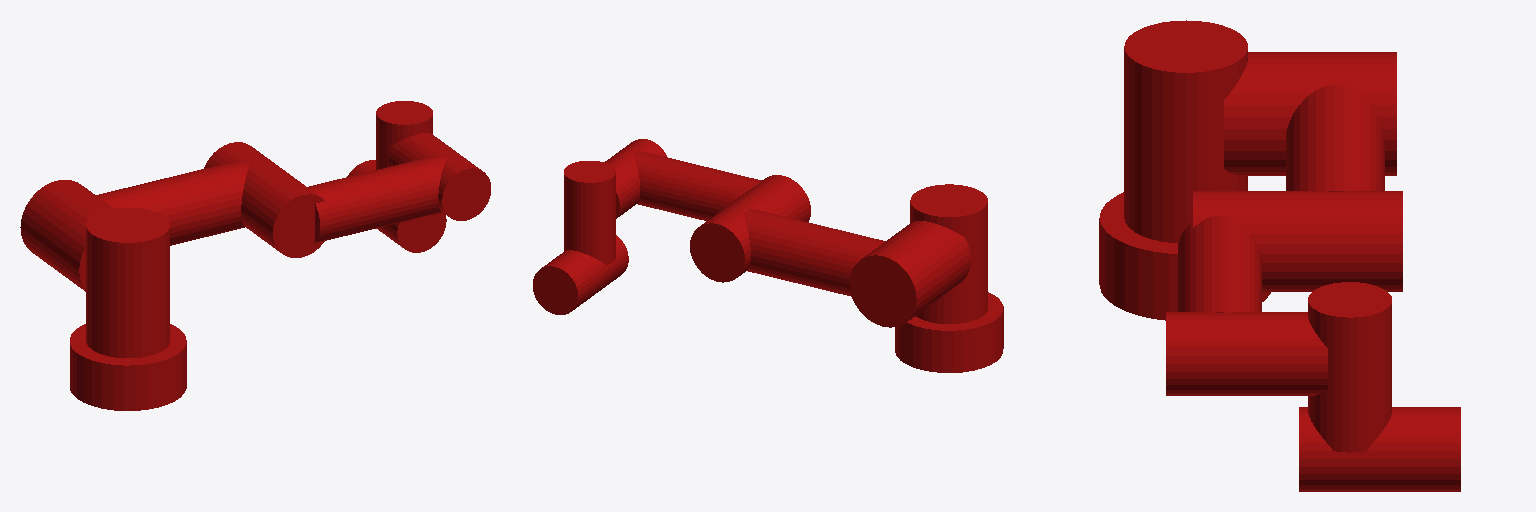
robot.urdf — ur3e:
<?xml version="1.0" ?>
<!-- =================================================================================== -->
<!-- |    This document was autogenerated by xacro from manipulation/models/ur3e/ur3e_cylinder_revolute_wrist_collision_visual.urdf.xacro | -->
<!-- |    EDITING THIS FILE BY HAND IS NOT RECOMMENDED                                 | -->
<!-- =================================================================================== -->
<robot name="ur3e" xmlns:drake="https://drake.mit.edu">
  <!--
  Per https://github.com/ros-industrial/universal_robot/blob/melodic-devel/ur_description/package.xml
  the ur_description package from which these files are derived is BSD licensed.
-->
  <!--
  Author: [author]

  Per https://github.com/ros-industrial/universal_robot/blob/melodic-devel/ur_description/package.xml
  the ur_description package from which these files are derived is BSD licensed.
-->
  <!--
  TODO([author], [author], [author]) The acceleration limits in this
  file are wrong. Try to find the right value.
-->
  <!-- measured from model -->
  <link name="ur_base_link">
    <visual name="base_cylinder">
      <origin rpy="0 0 0" xyz="0 0 0.03"/>
      <geometry>
        <cylinder length="0.06" radius="0.07"/>
      </geometry>
      <material name="LightRed">
        <color rgba="0.7 0.1 0.1 1.0"/>
      </material>
    </visual>
    <collision name="base_cylinder">
      <origin rpy="0 0 0" xyz="0 0 0.03"/>
      <geometry>
        <cylinder length="0.06" radius="0.07"/>
      </geometry>
    </collision>
    <inertial>
      <mass value="2.0"/>
      <origin rpy="0 0 0" xyz="0.0 0.0 0.0"/>
      <inertia ixx="0.0030531654454" ixy="0.0" ixz="0.0" iyy="0.0030531654454" iyz="0.0" izz="0.005625"/>
    </inertial>
  </link>
  <joint name="ur_shoulder_pan_joint" type="revolute">
    <parent link="ur_base_link"/>
    <child link="ur_shoulder_link"/>
    <origin rpy="0.0 0.0 0.0" xyz="0.0 0.0 0.152"/>
    <axis xyz="0 0 1"/>
    <limit drake:acceleration="2.5" effort="330.0" lower="-2.827433388230814" upper="2.827433388230814" velocity="3.14"/>
    <dynamics damping="0.0" friction="0.0"/>
  </joint>
  <link name="ur_shoulder_link">
    <visual name="shoulder_cylinder">
      <origin rpy="0 0 0" xyz="0.0 0.0 -0.02"/>
      <geometry>
        <cylinder length="0.16" radius="0.05"/>
      </geometry>
      <material name="LightRed">
        <color rgba="0.7 0.1 0.1 1.0"/>
      </material>
    </visual>
    <collision name="shoulder_cylinder">
      <origin rpy="0 0 0" xyz="0.0 0.0 -0.02"/>
      <geometry>
        <cylinder length="0.16" radius="0.05"/>
      </geometry>
    </collision>
    <inertial>
      <mass value="2.0"/>
      <origin rpy="0 0 0" xyz="0.0 0.0 0.0"/>
      <inertia ixx="0.008093163429399999" ixy="0.0" ixz="0.0" iyy="0.008093163429399999" iyz="0.0" izz="0.005625"/>
    </inertial>
  </link>
  <joint name="ur_shoulder_lift_joint" type="revolute">
    <parent link="ur_shoulder_link"/>
    <child link="ur_upper_arm_link"/>
    <origin rpy="0.0 1.5707963267948966 0.0" xyz="0.0 0.12 0.0"/>
    <axis xyz="0 1 0"/>
    <limit drake:acceleration="2.5" effort="330.0" lower="-2.827433388230814" upper="2.827433388230814" velocity="3.14"/>
    <dynamics damping="0.0" friction="0.0"/>
  </joint>
  <link name="ur_upper_arm_link">
    <visual name="upper_arm_cylinder1">
      <origin rpy="1.5707963267948966 0 0" xyz="0.0 -0.02 0.0"/>
      <geometry>
        <cylinder length="0.14" radius="0.05"/>
      </geometry>
      <material name="LightRed">
        <color rgba="0.7 0.1 0.1 1.0"/>
      </material>
    </visual>
    <collision name="upper_arm_cylinder1">
      <origin rpy="1.5707963267948966 0 0" xyz="0.0 -0.02 0.0"/>
      <geometry>
        <cylinder length="0.14" radius="0.05"/>
      </geometry>
    </collision>
    <visual name="upper_arm_cylinder2">
      <origin rpy="0 0 0" xyz="0.0 0.0 0.127"/>
      <geometry>
        <cylinder length="0.21" radius="0.04"/>
      </geometry>
      <material name="LightRed">
        <color rgba="0.7 0.1 0.1 1.0"/>
      </material>
    </visual>
    <collision name="upper_arm_cylinder2">
      <origin rpy="0 0 0" xyz="0.0 0.0 0.127"/>
      <geometry>
        <cylinder length="0.21" radius="0.04"/>
      </geometry>
    </collision>
    <visual name="upper_arm_cylinder3">
      <origin rpy="1.5707963267948966 0 0" xyz="0.0 -0.03 0.243"/>
      <geometry>
        <cylinder length="0.17" radius="0.041"/>
      </geometry>
      <material name="LightRed">
        <color rgba="0.7 0.1 0.1 1.0"/>
      </material>
    </visual>
    <collision name="upper_arm_cylinder3">
      <origin rpy="1.5707963267948966 0 0" xyz="0.0 -0.03 0.243"/>
      <geometry>
        <cylinder length="0.17" radius="0.041"/>
      </geometry>
    </collision>
    <inertial>
      <mass value="3.42"/>
      <origin rpy="0 0 0" xyz="0.0 0.0 0.122"/>
      <inertia ixx="0.021777126289145996" ixy="0.0" ixz="0.0" iyy="0.021777126289145996" iyz="0.0" izz="0.00961875"/>
    </inertial>
  </link>
  <joint name="ur_elbow_joint" type="revolute">
    <parent link="ur_upper_arm_link"/>
    <child link="ur_forearm_link"/>
    <origin rpy="0.0 0.0 0.0" xyz="0.0 -0.093 0.244"/>
    <axis xyz="0 1 0"/>
    <limit drake:acceleration="2.5" effort="150.0" lower="-2.827433388230814" upper="2.827433388230814" velocity="3.14"/>
    <dynamics damping="0.0" friction="0.0"/>
  </joint>
  <link name="ur_forearm_link">
    <visual name="forearm_cylinder1">
      <origin rpy="0 0 0" xyz="0.0 0.0 0.1115"/>
      <geometry>
        <cylinder length="0.19" radius="0.034"/>
      </geometry>
      <material name="LightRed">
        <color rgba="0.7 0.1 0.1 1.0"/>
      </material>
    </visual>
    <visual name="forearm_cylinder2">
      <origin rpy="1.5707963267948966 0 0" xyz="0.0 0.022 0.213"/>
      <geometry>
        <cylinder length="0.13" radius="0.034"/>
      </geometry>
      <material name="LightRed">
        <color rgba="0.7 0.1 0.1 1.0"/>
      </material>
    </visual>
    <collision name="forearm_cylinder1">
      <origin rpy="0 0 0" xyz="0.0 0.0 0.1115"/>
      <geometry>
        <cylinder length="0.19" radius="0.034"/>
      </geometry>
    </collision>
    <collision name="forearm_cylinder2">
      <origin rpy="1.5707963267948966 0 0" xyz="0.0 0.022 0.213"/>
      <geometry>
        <cylinder length="0.13" radius="0.034"/>
      </geometry>
    </collision>
    <inertial>
      <mass value="1.26"/>
      <origin rpy="0 0 0" xyz="0.0 0.0 0.1065"/>
      <inertia ixx="0.006535617385751999" ixy="0.0" ixz="0.0" iyy="0.006535617385751999" iyz="0.0" izz="0.00354375"/>
    </inertial>
  </link>
  <joint name="ur_wrist_1_joint" type="revolute">
    <parent link="ur_forearm_link"/>
    <child link="ur_wrist_1_link"/>
    <origin rpy="0.0 1.5707963267948966 0.0" xyz="0.0 0.0 0.213"/>
    <axis xyz="0 1 0"/>
    <limit drake:acceleration="2.5" effort="54.0" lower="-2.827433388230814" upper="2.827433388230814" velocity="6.28"/>
    <dynamics damping="0.0" friction="0.0"/>
  </joint>
  <link name="ur_wrist_1_link">
    <visual name="wrist_1_cylinder">
      <origin rpy="0 0 0" xyz="0.0 0.105 0.012"/>
      <geometry>
        <cylinder length="0.12" radius="0.034"/>
      </geometry>
      <material name="LightRed">
        <color rgba="0.7 0.1 0.1 1.0"/>
      </material>
    </visual>
    <collision name="wrist_1_cylinder">
      <origin rpy="0 0 0" xyz="0.0 0.105 0.012"/>
      <geometry>
        <cylinder length="0.12" radius="0.034"/>
      </geometry>
    </collision>
    <inertial>
      <mass value="0.8"/>
      <origin rpy="0 0 0" xyz="0.0 0.104 0.0"/>
      <inertia ixx="0.002084999166" ixy="0.0" ixz="0.0" iyy="0.002084999166" iyz="0.0" izz="0.00225"/>
    </inertial>
  </link>
  <joint name="ur_wrist_2_joint" type="revolute">
    <parent link="ur_wrist_1_link"/>
    <child link="ur_wrist_2_link"/>
    <origin rpy="0.0 0.0 0.0" xyz="0.0 0.104 0.0"/>
    <axis xyz="0 0 1"/>
    <limit drake:acceleration="2.5" effort="54.0" lower="-2.827433388230814" upper="2.827433388230814" velocity="6.28"/>
    <dynamics damping="0.0" friction="0.0"/>
  </joint>
  <link name="ur_wrist_2_link">
    <origin rpy="1.5707963267948966 0 0" xyz="0.0 0.0 0.0"/>
    <visual name="wrist_2_cylinder">
      <origin rpy="1.5707963267948966 0 0" xyz="0.0 0.025 0.085"/>
      <geometry>
        <cylinder length="0.13" radius="0.034"/>
      </geometry>
      <material name="LightRed">
        <color rgba="0.7 0.1 0.1 1.0"/>
      </material>
    </visual>
    <collision name="wrist_2_cylinder">
      <origin rpy="1.5707963267948966 0 0" xyz="0.0 0.025 0.085"/>
      <geometry>
        <cylinder length="0.13" radius="0.034"/>
      </geometry>
    </collision>
    <inertial>
      <mass value="0.8"/>
      <origin rpy="0 0 0" xyz="0.0 0.0 0.085"/>
      <inertia ixx="0.002084999166" ixy="0.0" ixz="0.0" iyy="0.002084999166" iyz="0.0" izz="0.00225"/>
    </inertial>
  </link>
  <joint name="ur_wrist_3_joint" type="revolute">
    <parent link="ur_wrist_2_link"/>
    <child link="ur_wrist_3_link"/>
    <origin rpy="0.0 0.0 0.0" xyz="0.0 0.0 0.085"/>
    <axis xyz="0 1 0"/>
    <limit drake:acceleration="2.5" effort="54.0" lower="-2.827433388230814" upper="2.827433388230814" velocity="6.28"/>
    <dynamics damping="0.0" friction="0.0"/>
  </joint>
  <link name="ur_wrist_3_link">
    <inertial>
      <mass value="0.35"/>
      <origin rpy="1.5707963267948966 0 0" xyz="0.0 0.071 0.0"/>
      <inertia ixx="0.00014104994358" ixy="0.0" ixz="0.0" iyy="0.00014104994358" iyz="0.0" izz="0.0001792"/>
    </inertial>
  </link>
  <joint name="ur_ee_fixed_joint" type="fixed">
    <parent link="ur_wrist_3_link"/>
    <child link="ur_ee_link"/>
    <origin rpy="0.0 0.0 1.5707963267948966" xyz="0.0 0.092 0.0"/>
  </joint>
  <link name="ur_ee_link"/>
  <transmission name="ur_shoulder_pan_trans">
    <type>transmission_interface/SimpleTransmission</type>
    <joint name="ur_shoulder_pan_joint">
      <hardwareInterface>hardware_interface/PositionJointInterface</hardwareInterface>
    </joint>
    <actuator name="ur_shoulder_pan_motor">
      <mechanicalReduction>1</mechanicalReduction>
    </actuator>
  </transmission>
  <transmission name="ur_shoulder_lift_trans">
    <type>transmission_interface/SimpleTransmission</type>
    <joint name="ur_shoulder_lift_joint">
      <hardwareInterface>hardware_interface/PositionJointInterface</hardwareInterface>
    </joint>
    <actuator name="ur_shoulder_lift_motor">
      <mechanicalReduction>1</mechanicalReduction>
    </actuator>
  </transmission>
  <transmission name="ur_elbow_trans">
    <type>transmission_interface/SimpleTransmission</type>
    <joint name="ur_elbow_joint">
      <hardwareInterface>hardware_interface/PositionJointInterface</hardwareInterface>
    </joint>
    <actuator name="ur_elbow_motor">
      <mechanicalReduction>1</mechanicalReduction>
    </actuator>
  </transmission>
  <transmission name="ur_wrist_1_trans">
    <type>transmission_interface/SimpleTransmission</type>
    <joint name="ur_wrist_1_joint">
      <hardwareInterface>hardware_interface/PositionJointInterface</hardwareInterface>
    </joint>
    <actuator name="ur_wrist_1_motor">
      <mechanicalReduction>1</mechanicalReduction>
    </actuator>
  </transmission>
  <transmission name="ur_wrist_2_trans">
    <type>transmission_interface/SimpleTransmission</type>
    <joint name="ur_wrist_2_joint">
      <hardwareInterface>hardware_interface/PositionJointInterface</hardwareInterface>
    </joint>
    <actuator name="ur_wrist_2_motor">
      <mechanicalReduction>1</mechanicalReduction>
    </actuator>
  </transmission>
  <transmission name="ur_wrist_3_trans">
    <type>transmission_interface/SimpleTransmission</type>
    <joint name="ur_wrist_3_joint">
      <hardwareInterface>hardware_interface/PositionJointInterface</hardwareInterface>
    </joint>
    <actuator name="ur_wrist_3_motor">
      <mechanicalReduction>1</mechanicalReduction>
    </actuator>
  </transmission>
  <!-- ROS base_link to UR 'Base' Coordinates transform -->
  <link name="ur_base"/>
  <joint name="ur_base_link-base_fixed_joint" type="fixed">
    <!-- NOTE: this rotation is only needed as long as base_link itself is
                 not corrected wrt the real robot (ie: rotated over 180
                 degrees)
      -->
    <origin rpy="0 0 -3.141592653589793" xyz="0 0 0"/>
    <parent link="ur_base_link"/>
    <child link="ur_base"/>
  </joint>
  <!-- Frame coincident with all-zeros TCP on UR controller -->
  <link name="ur_tool0"/>
  <joint name="ur_wrist_3_link-tool0_fixed_joint" type="fixed">
    <origin rpy="-1.5707963267948966 0 0" xyz="0 0.092 0"/>
    <parent link="ur_wrist_3_link"/>
    <child link="ur_tool0"/>
  </joint>
</robot>

--- Facts derived from the render (not from the file) ---
3 views of the same robot in one strip: view 1: azimuth 30°, elevation 25°; view 2: azimuth 150°, elevation 25°; view 3: azimuth 270°, elevation 25° (orthographic).
Model ur3e with 10 links and 9 joints (6 revolute, 3 fixed), rooted at ur_base_link, posed every joint at zero.
Visible links, largest first — view 1: ur_upper_arm_link, ur_shoulder_link, ur_forearm_link, ur_base_link, ur_wrist_1_link, ur_wrist_2_link; view 2: ur_upper_arm_link, ur_forearm_link, ur_shoulder_link, ur_base_link, ur_wrist_1_link, ur_wrist_2_link; view 3: ur_upper_arm_link, ur_shoulder_link, ur_forearm_link, ur_wrist_1_link, ur_wrist_2_link, ur_base_link.
Boxes of the visible links, x1,y1,x2,y2 form: ur_upper_arm_link: (20, 142, 324, 291); ur_shoulder_link: (86, 208, 169, 357); ur_forearm_link: (307, 133, 490, 242); ur_base_link: (70, 324, 186, 410); ur_wrist_1_link: (376, 101, 432, 169); ur_wrist_2_link: (347, 160, 446, 252); ur_upper_arm_link: (690, 175, 970, 327); ur_forearm_link: (605, 139, 761, 220); ur_shoulder_link: (910, 184, 987, 323); ur_base_link: (895, 292, 1003, 372); ur_wrist_1_link: (564, 161, 615, 264); ur_wrist_2_link: (533, 235, 628, 314); ur_upper_arm_link: (1193, 52, 1402, 291); ur_shoulder_link: (1124, 20, 1247, 242); ur_forearm_link: (1166, 215, 1327, 395); ur_wrist_1_link: (1308, 282, 1391, 452); ur_wrist_2_link: (1299, 407, 1460, 491); ur_base_link: (1099, 192, 1270, 320).
Bounding box of the posed robot: 0.561 × 0.291 × 0.212 m (x, y, z).
Geometry: primitives only (box / cylinder / sphere), no mesh files.